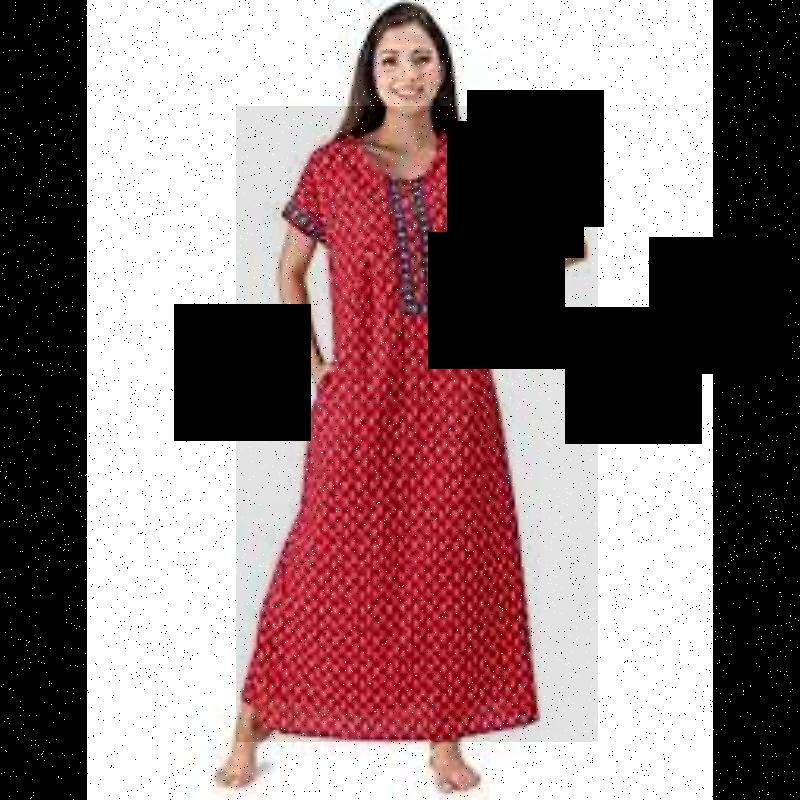Maxi: (236, 106, 598, 742)
